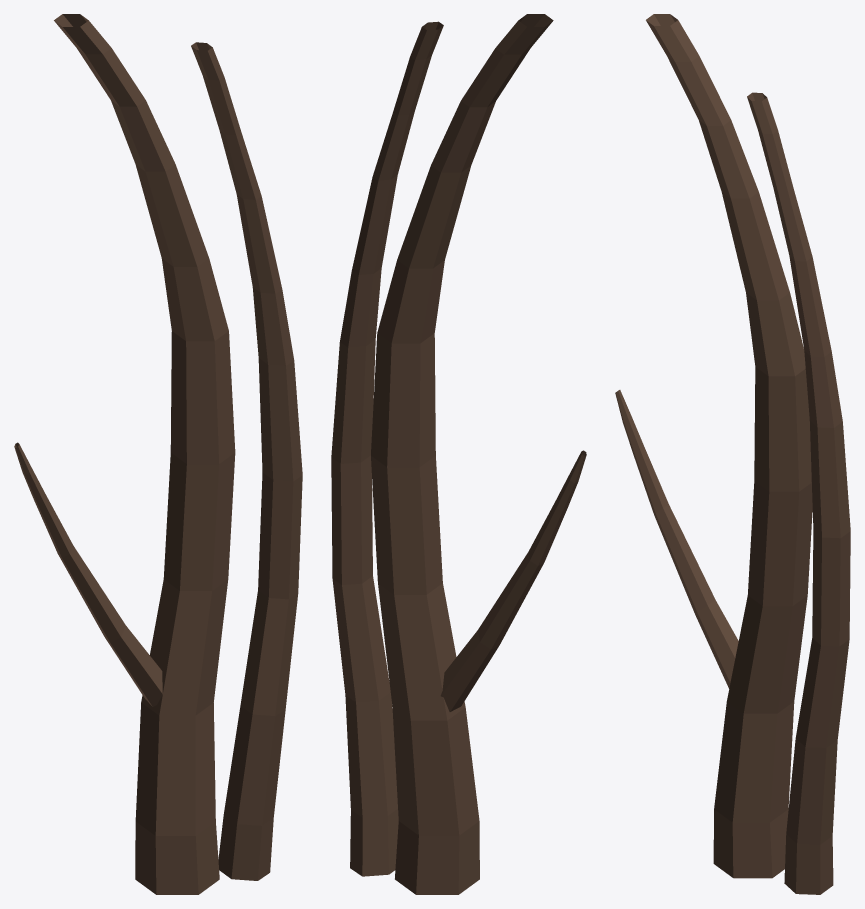
File: 3D_trunk_2.fbx
The picture shows the model from 3 angles, left to right: view 1: azimuth 30°, elevation 25°; view 2: azimuth 150°, elevation 25°; view 3: azimuth 330°, elevation 25°; orthographic projection. The views are drawn at different scales.
Visible parts, largest first — view 1: Tree_02; view 2: Tree_02; view 3: Tree_02.
Boxes of the visible parts, x1,y1,x2,y2 form: Tree_02: (14,14,302,894); Tree_02: (331,14,586,894); Tree_02: (615,14,850,894).
Size of the model in its own units: 2.63 by 8.42 by 0.747.
